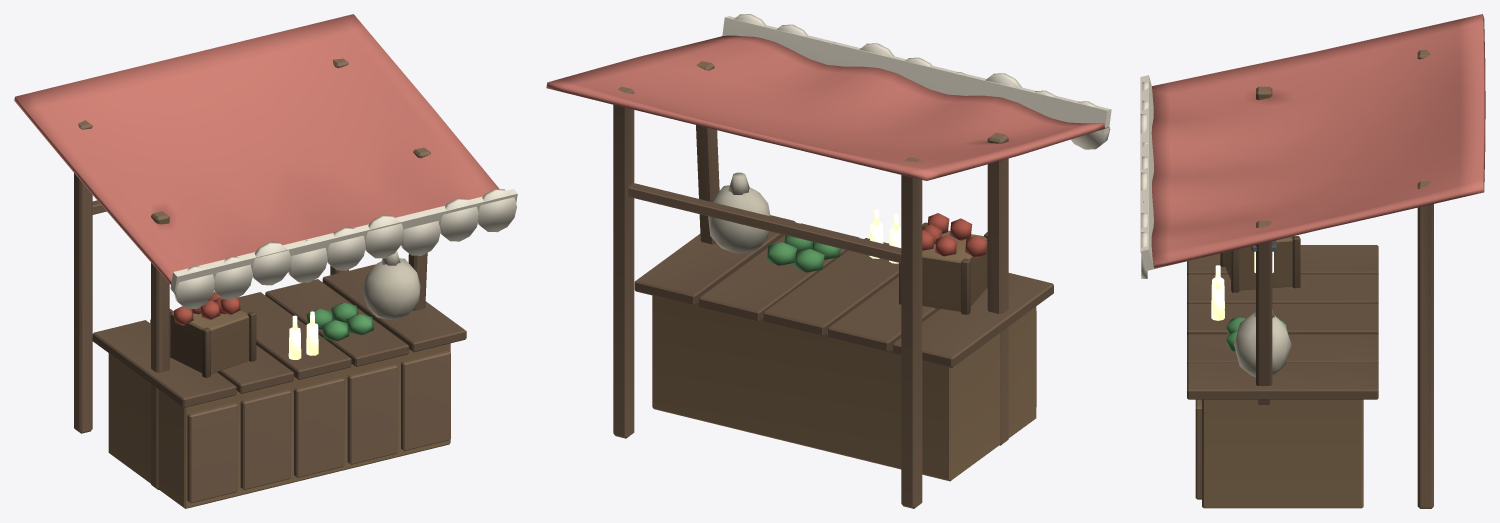
File: stall.glb
3 views of the same model, side by side, from view 1: azimuth 30°, elevation 25°; view 2: azimuth 150°, elevation 25°; view 3: azimuth 270°, elevation 25° (orthographic). The views are drawn at different scales.
Visible parts, largest first — view 1: stall; view 2: stall; view 3: stall.
Part boxes in pixels (box(x1,y1,x2,y2)): stall: box(14, 14, 517, 508); stall: box(546, 14, 1111, 508); stall: box(1140, 14, 1485, 508).
Bounding box in the file's own units: 3.32 × 3.02 × 2.77.
